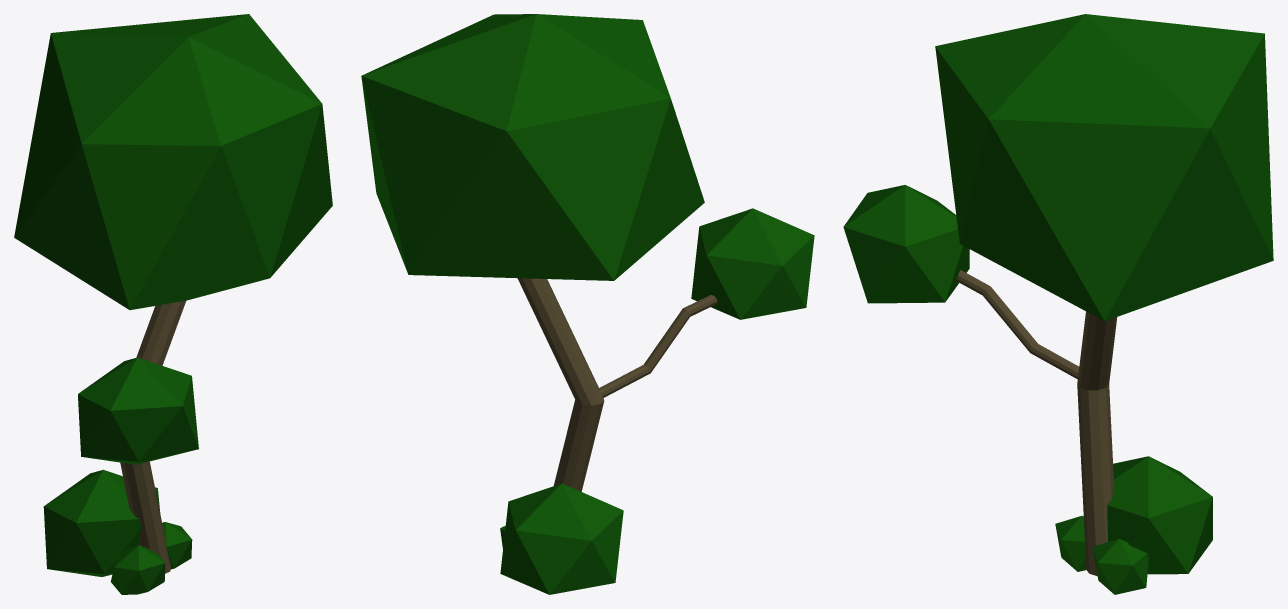
Rendered from Tree.glb.
The picture shows the model from 3 angles, left to right: view 1: azimuth 30°, elevation 25°; view 2: azimuth 150°, elevation 25°; view 3: azimuth 270°, elevation 25°; orthographic projection. The views are drawn at different scales.
Parts seen in each view (by area): view 1: Icosphere.003; view 2: Icosphere.003; view 3: Icosphere.003.
Boxes of the visible parts, x1,y1,x2,y2 form: Icosphere.003: (14, 14, 332, 594); Icosphere.003: (361, 14, 814, 594); Icosphere.003: (843, 14, 1273, 594).
Size of the model in its own units: 3.24 by 4.94 by 3.28.
